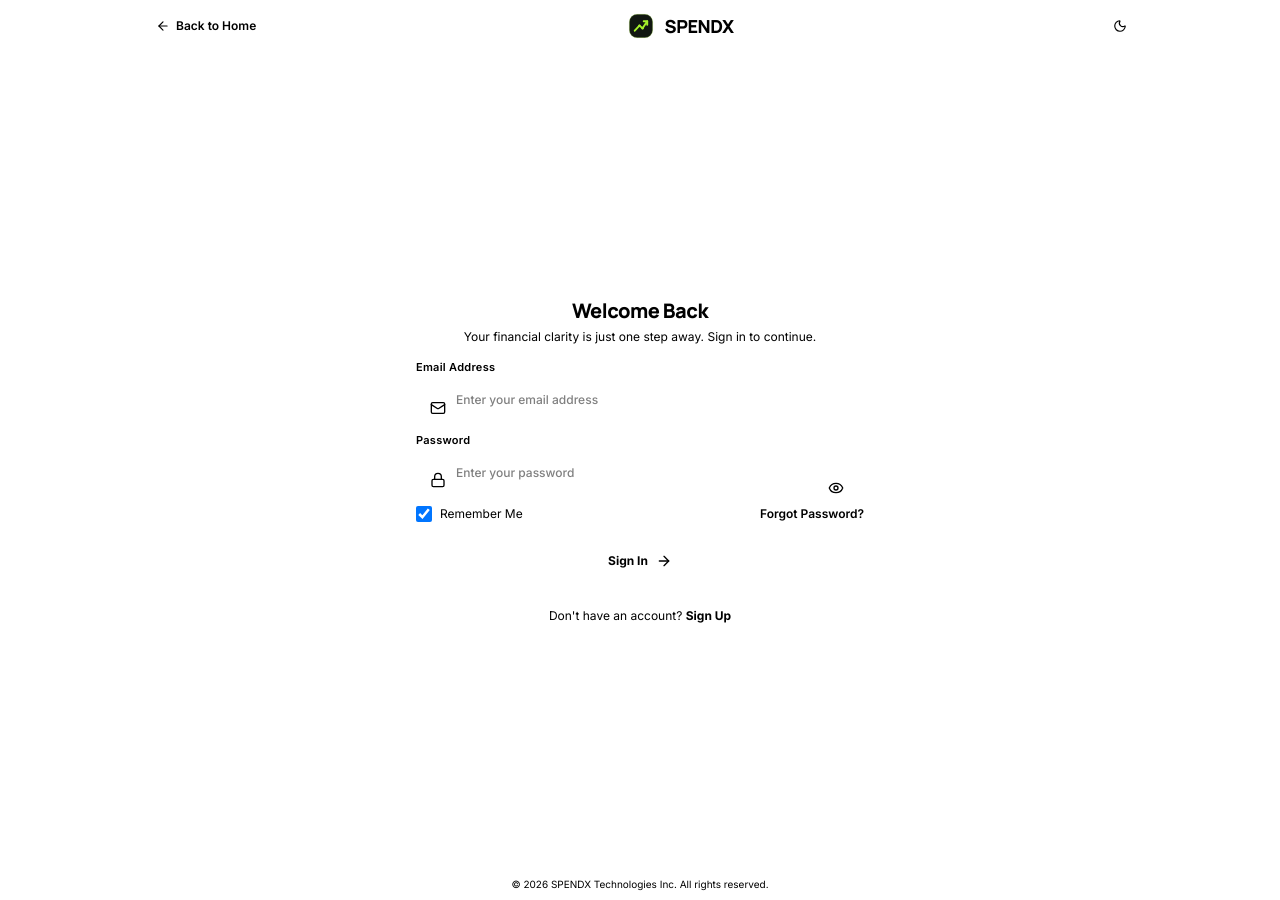
Test: SPENDX Authentication Pages › validates empty login form and shows field errors
Click the button "Sign In".
click(640, 561)  # box [416,540,864,582]
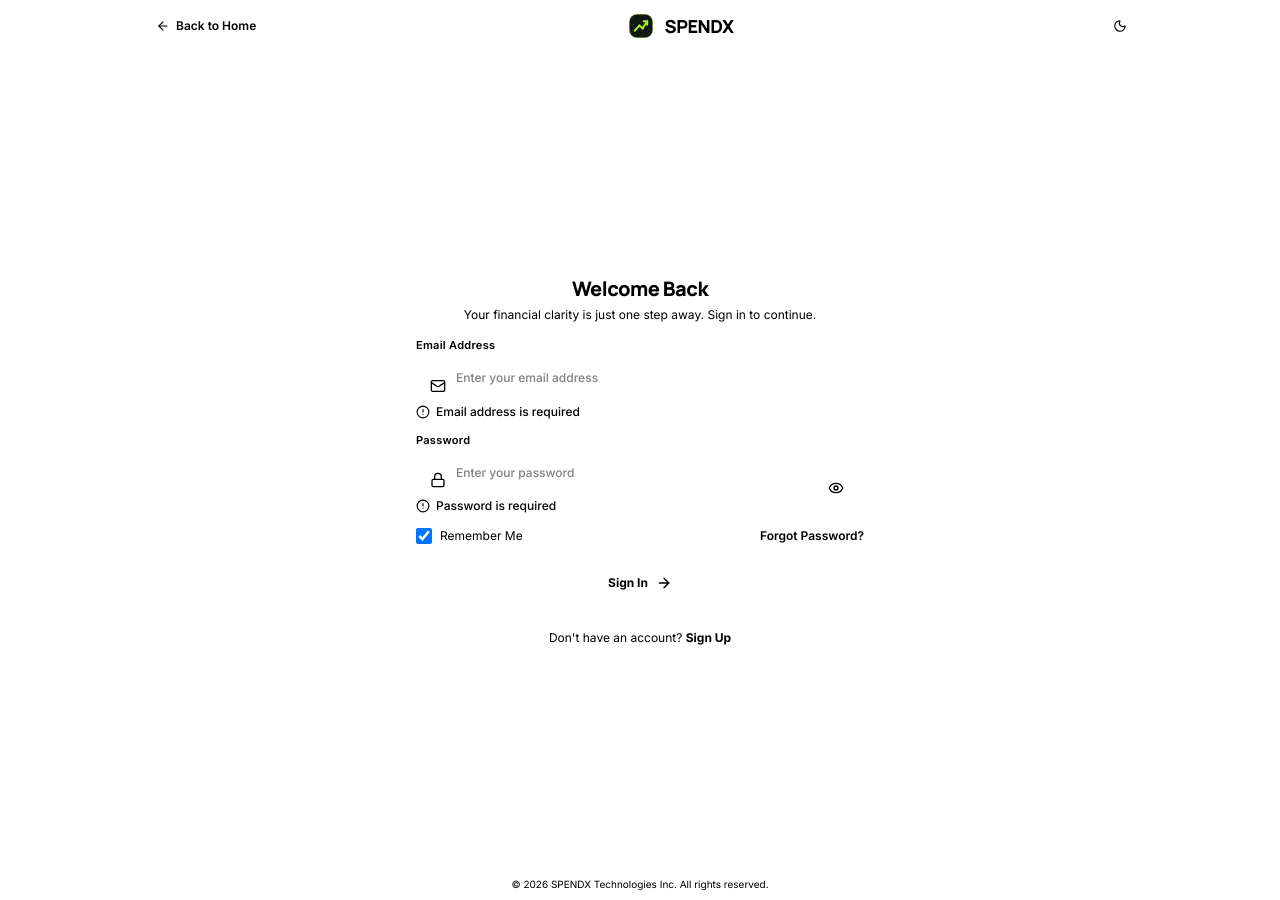
Now the text "Email address is required" is shown, box [436,404,580,420]
